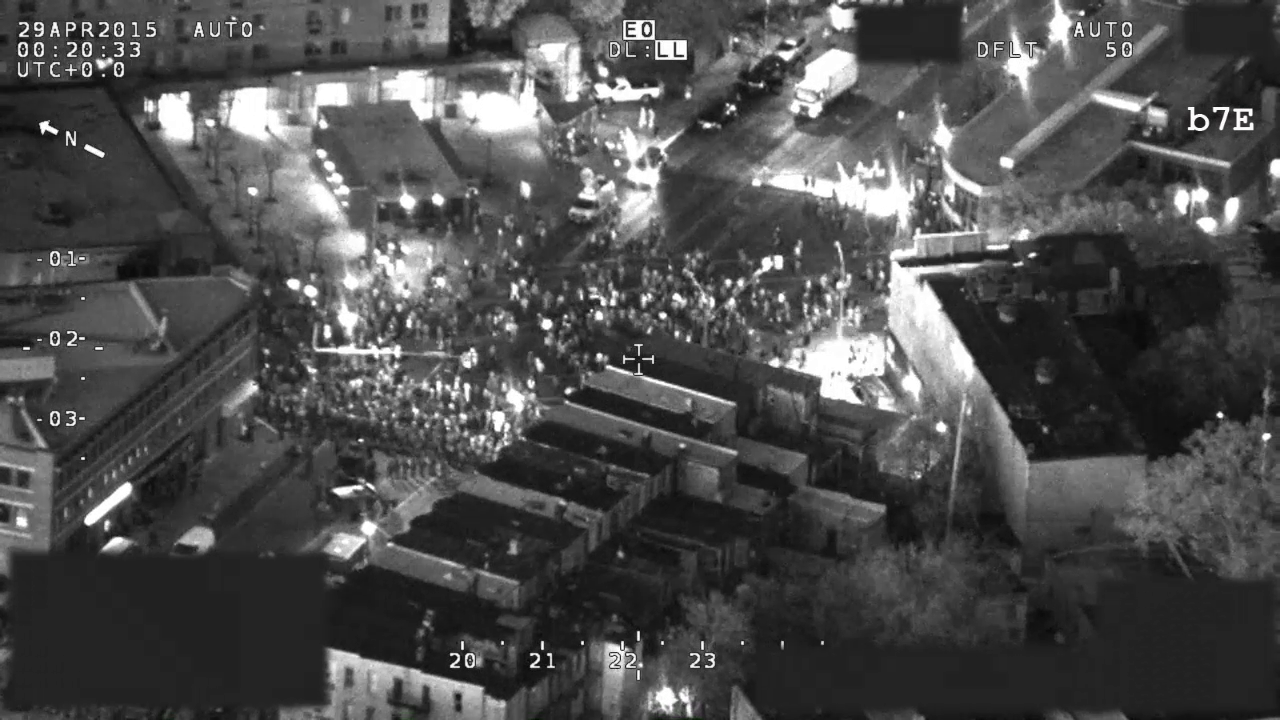vehicle: (785, 39, 867, 127), (312, 483, 380, 526), (567, 173, 616, 231), (168, 517, 225, 566), (535, 295, 604, 335), (318, 531, 369, 581), (589, 75, 671, 106), (329, 433, 378, 484), (629, 143, 669, 186)
